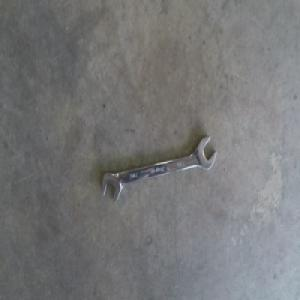Wrench: (101, 138, 215, 206)
